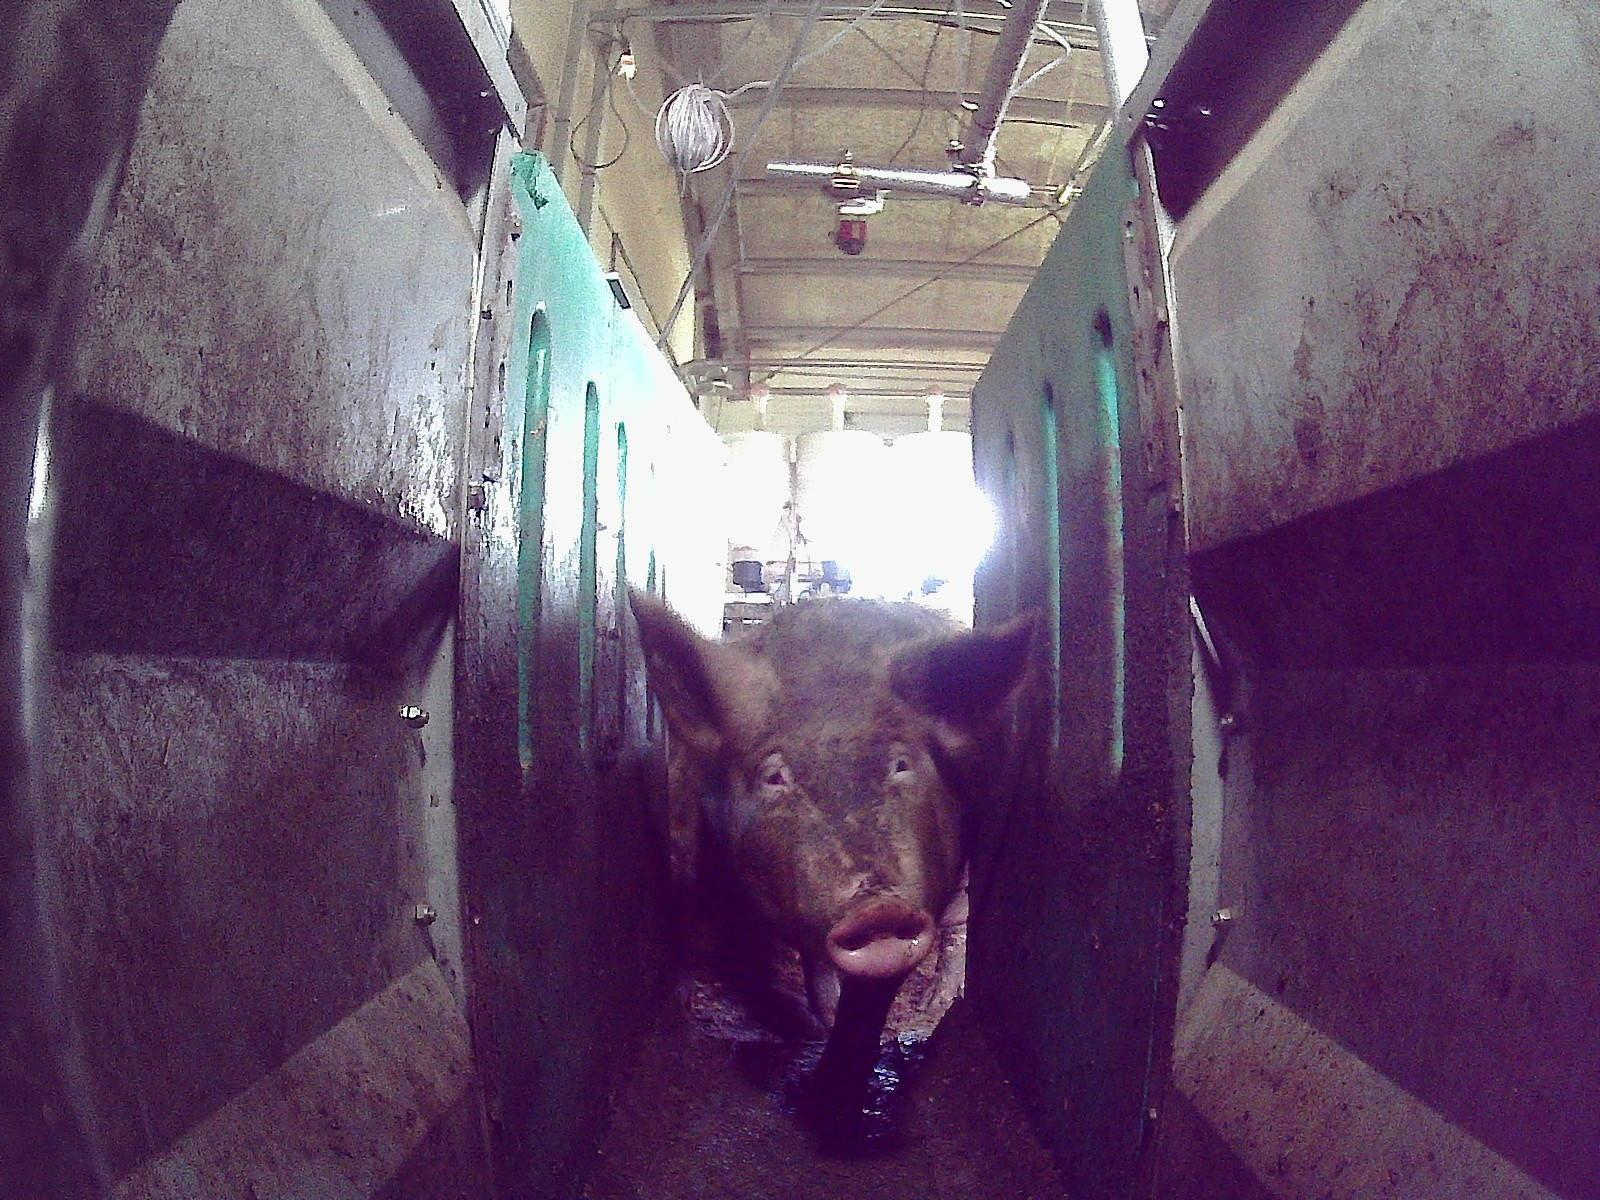Face: (705, 595, 970, 978)
